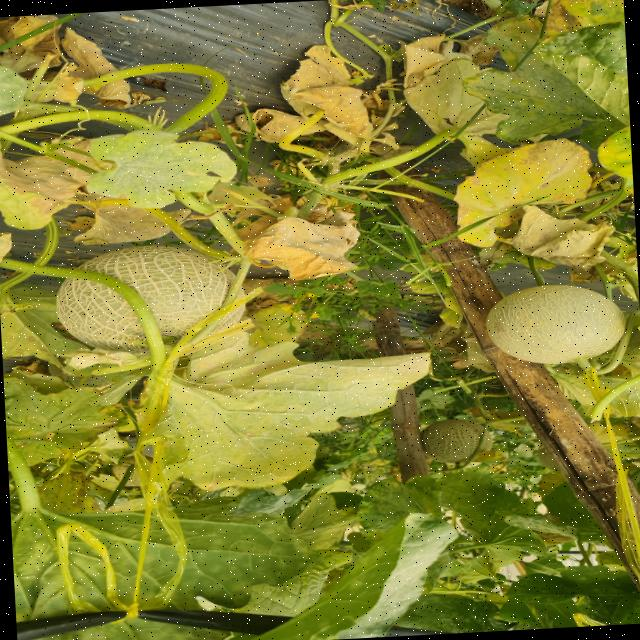melon: (79, 244, 233, 337), (485, 284, 623, 363), (56, 277, 148, 353)
